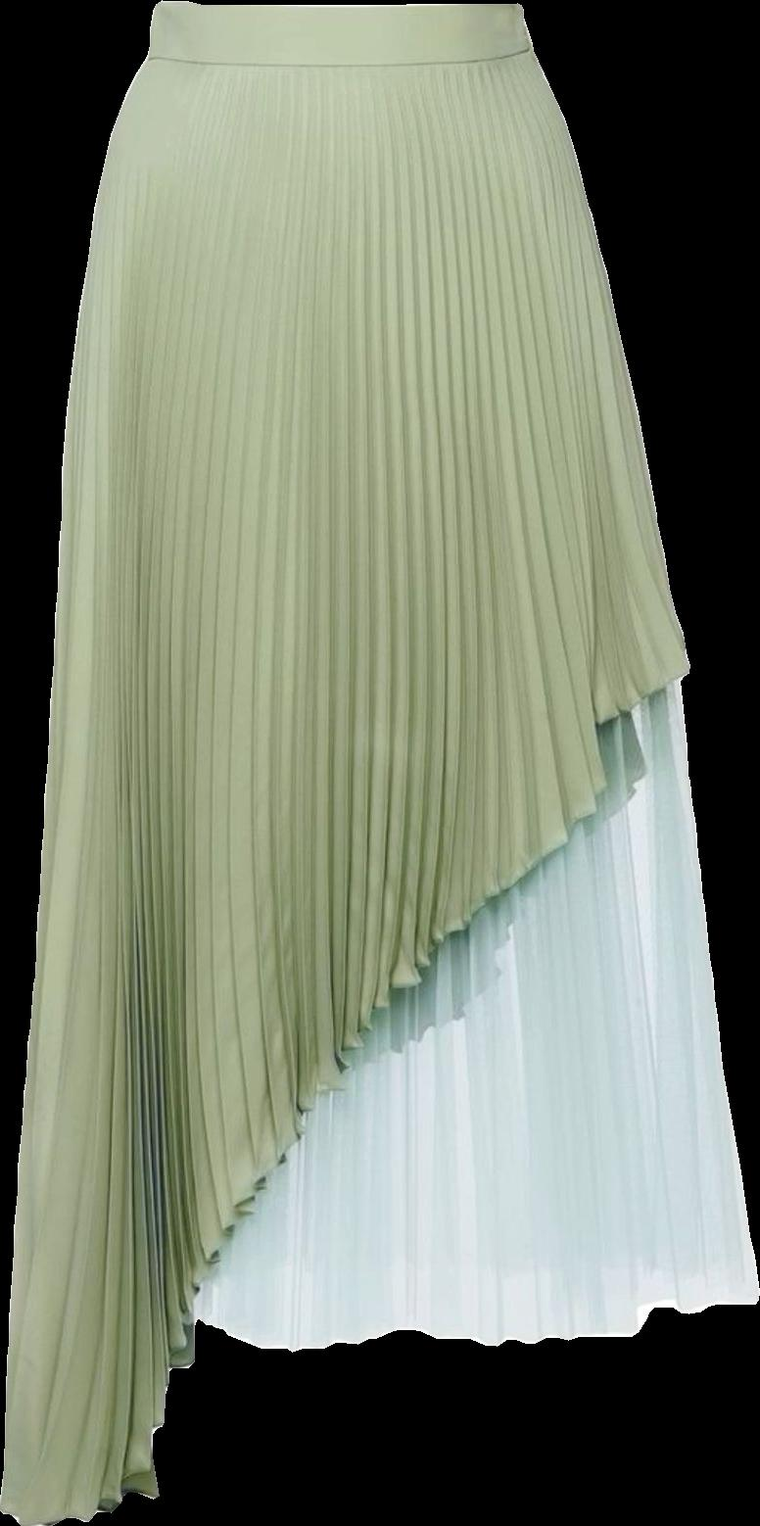Hemline: (4, 647, 698, 1525), (187, 1283, 759, 1366)
Waistline: (136, 38, 543, 78), (152, 0, 530, 18)
